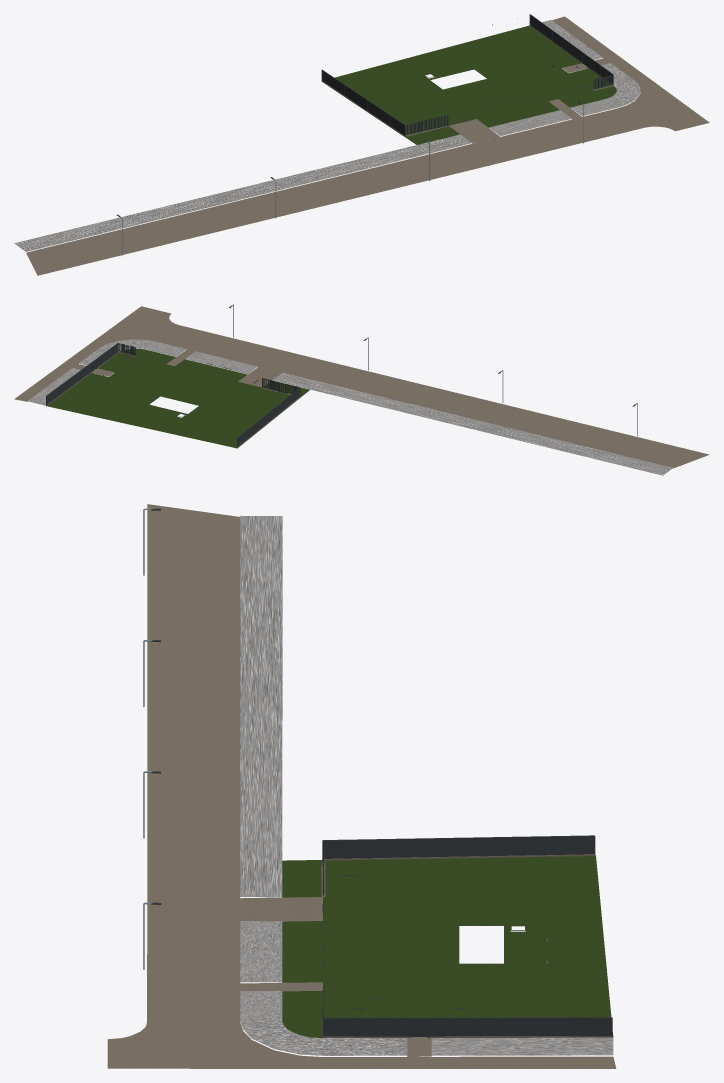
File: dom-landscape.glb
3 renders of one model, top to bottom at view 1: azimuth 30°, elevation 25°; view 2: azimuth 150°, elevation 25°; view 3: azimuth 270°, elevation 25°, orthographic. The views are drawn at different scales.
Visible parts, largest first — view 1: DOM_00001 | Parcela 6012/26 · 753 m², DOM_00005 | Miestna komunikácia 6012/1 · čelná vozovka po hr, DOM_00002 | Cestná rezerva 6012/1 · hlinená krajnica 1 s otv, DOM_00006 | Miestna komunikácia 6012/1 · rohová vetva v kata, DOM_01556 | Bočný plot · plné veľkoformátové polia RAL 7016, DOM_00003 | Cestná rezerva 6012/1 · hlinená krajnica 2 s otv, DOM_00007 | Bočná cestná rezerva 6012/1 · hlinená krajnica 1, DOM_00054 | Spádované samostatné napojenie GARAGE-DOOR · 25., DOM_00008 | Bočná cestná rezerva 6012/1 · hlinená krajnica 2, DOM_00004 | Cestná rezerva 6012/1 · hlinená krajnica 3 s otv; view 2: DOM_00001 | Parcela 6012/26 · 753 m², DOM_00005 | Miestna komunikácia 6012/1 · čelná vozovka po hr, DOM_00002 | Cestná rezerva 6012/1 · hlinená krajnica 1 s otv, DOM_00006 | Miestna komunikácia 6012/1 · rohová vetva v kata, DOM_01556 | Bočný plot · plné veľkoformátové polia RAL 7016, DOM_00003 | Cestná rezerva 6012/1 · hlinená krajnica 2 s otv, DOM_00007 | Bočná cestná rezerva 6012/1 · hlinená krajnica 1, DOM_00054 | Spádované samostatné napojenie GARAGE-DOOR · 25., DOM_00008 | Bočná cestná rezerva 6012/1 · hlinená krajnica 2, DOM_00004 | Cestná rezerva 6012/1 · hlinená krajnica 3 s otv; view 3: DOM_00001 | Parcela 6012/26 · 753 m², DOM_00005 | Miestna komunikácia 6012/1 · čelná vozovka po hr, DOM_00002 | Cestná rezerva 6012/1 · hlinená krajnica 1 s otv, DOM_00006 | Miestna komunikácia 6012/1 · rohová vetva v kata, DOM_01556 | Bočný plot · plné veľkoformátové polia RAL 7016, DOM_00008 | Bočná cestná rezerva 6012/1 · hlinená krajnica 2, DOM_00007 | Bočná cestná rezerva 6012/1 · hlinená krajnica 1, DOM_00003 | Cestná rezerva 6012/1 · hlinená krajnica 2 s otv, DOM_00054 | Spádované samostatné napojenie GARAGE-DOOR · 25., DOM_00004 | Cestná rezerva 6012/1 · hlinená krajnica 3 s otv, DOM_01560 | Plot · nízky pohľadový sokel, DOM_01558 | Bočný plot · presné horné krytky.
Boxes of the visible parts, x1,y1,x2,y2 form: DOM_00001 | Parcela 6012/26 · 753 m²: (321, 25, 616, 144); DOM_00005 | Miestna komunikácia 6012/1 · čelná vozovka po hr: (26, 108, 643, 275); DOM_00002 | Cestná rezerva 6012/1 · hlinená krajnica 1 s otv: (14, 134, 471, 251); DOM_00006 | Miestna komunikácia 6012/1 · rohová vetva v kata: (552, 16, 709, 131); DOM_01556 | Bočný plot · plné veľkoformátové polia RAL 7016: (322, 15, 612, 135); DOM_00003 | Cestná rezerva 6012/1 · hlinená krajnica 2 s otv: (489, 110, 571, 136); DOM_00007 | Bočná cestná rezerva 6012/1 · hlinená krajnica 1: (601, 63, 640, 107); DOM_00054 | Spádované samostatné napojenie GARAGE-DOOR · 25.: (449, 119, 499, 143); DOM_00008 | Bočná cestná rezerva 6012/1 · hlinená krajnica 2: (542, 20, 602, 59); DOM_00004 | Cestná rezerva 6012/1 · hlinená krajnica 3 s otv: (570, 99, 616, 116); DOM_00001 | Parcela 6012/26 · 753 m²: (46, 348, 309, 448); DOM_00005 | Miestna komunikácia 6012/1 · čelná vozovka po hr: (156, 325, 709, 468); DOM_00002 | Cestná rezerva 6012/1 · hlinená krajnica 1 s otv: (273, 372, 672, 475); DOM_00006 | Miestna komunikácia 6012/1 · rohová vetva v kata: (14, 306, 178, 401); DOM_01556 | Bočný plot · plné veľkoformátové polia RAL 7016: (46, 343, 300, 446); DOM_00003 | Cestná rezerva 6012/1 · hlinená krajnica 2 s otv: (185, 351, 257, 374); DOM_00007 | Bočná cestná rezerva 6012/1 · hlinená krajnica 1: (79, 339, 155, 365); DOM_00054 | Spádované samostatné napojenie GARAGE-DOOR · 25.: (238, 367, 281, 387); DOM_00008 | Bočná cestná rezerva 6012/1 · hlinená krajnica 2: (28, 368, 80, 405); DOM_00004 | Cestná rezerva 6012/1 · hlinená krajnica 3 s otv: (145, 341, 186, 356); DOM_00001 | Parcela 6012/26 · 753 m²: (282, 855, 613, 1037); DOM_00005 | Miestna komunikácia 6012/1 · čelná vozovka po hr: (147, 504, 240, 1022); DOM_00002 | Cestná rezerva 6012/1 · hlinená krajnica 1 s otv: (240, 515, 282, 897); DOM_00006 | Miestna komunikácia 6012/1 · rohová vetva v kata: (107, 1022, 616, 1068); DOM_01556 | Bočný plot · plné veľkoformátové polia RAL 7016: (323, 836, 611, 1036); DOM_00008 | Bočná cestná rezerva 6012/1 · hlinená krajnica 2: (431, 1037, 613, 1055); DOM_00007 | Bočná cestná rezerva 6012/1 · hlinená krajnica 1: (240, 1021, 407, 1055); DOM_00003 | Cestná rezerva 6012/1 · hlinená krajnica 2 s otv: (240, 921, 282, 982); DOM_00054 | Spádované samostatné napojenie GARAGE-DOOR · 25.: (240, 897, 322, 921); DOM_00004 | Cestná rezerva 6012/1 · hlinená krajnica 3 s otv: (240, 991, 282, 1020); DOM_01560 | Plot · nízky pohľadový sokel: (322, 854, 611, 1038); DOM_01558 | Bočný plot · presné horné krytky: (323, 835, 611, 1018).
Size of what is drawn, in the model's own units: 98.89 by 5.44 by 37.64.
10 materials, 6 textured.
